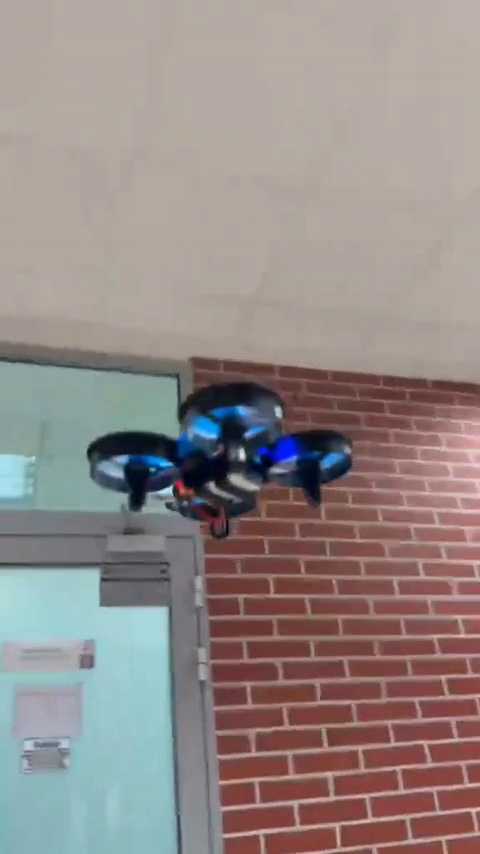drone: (81, 384, 355, 541)
